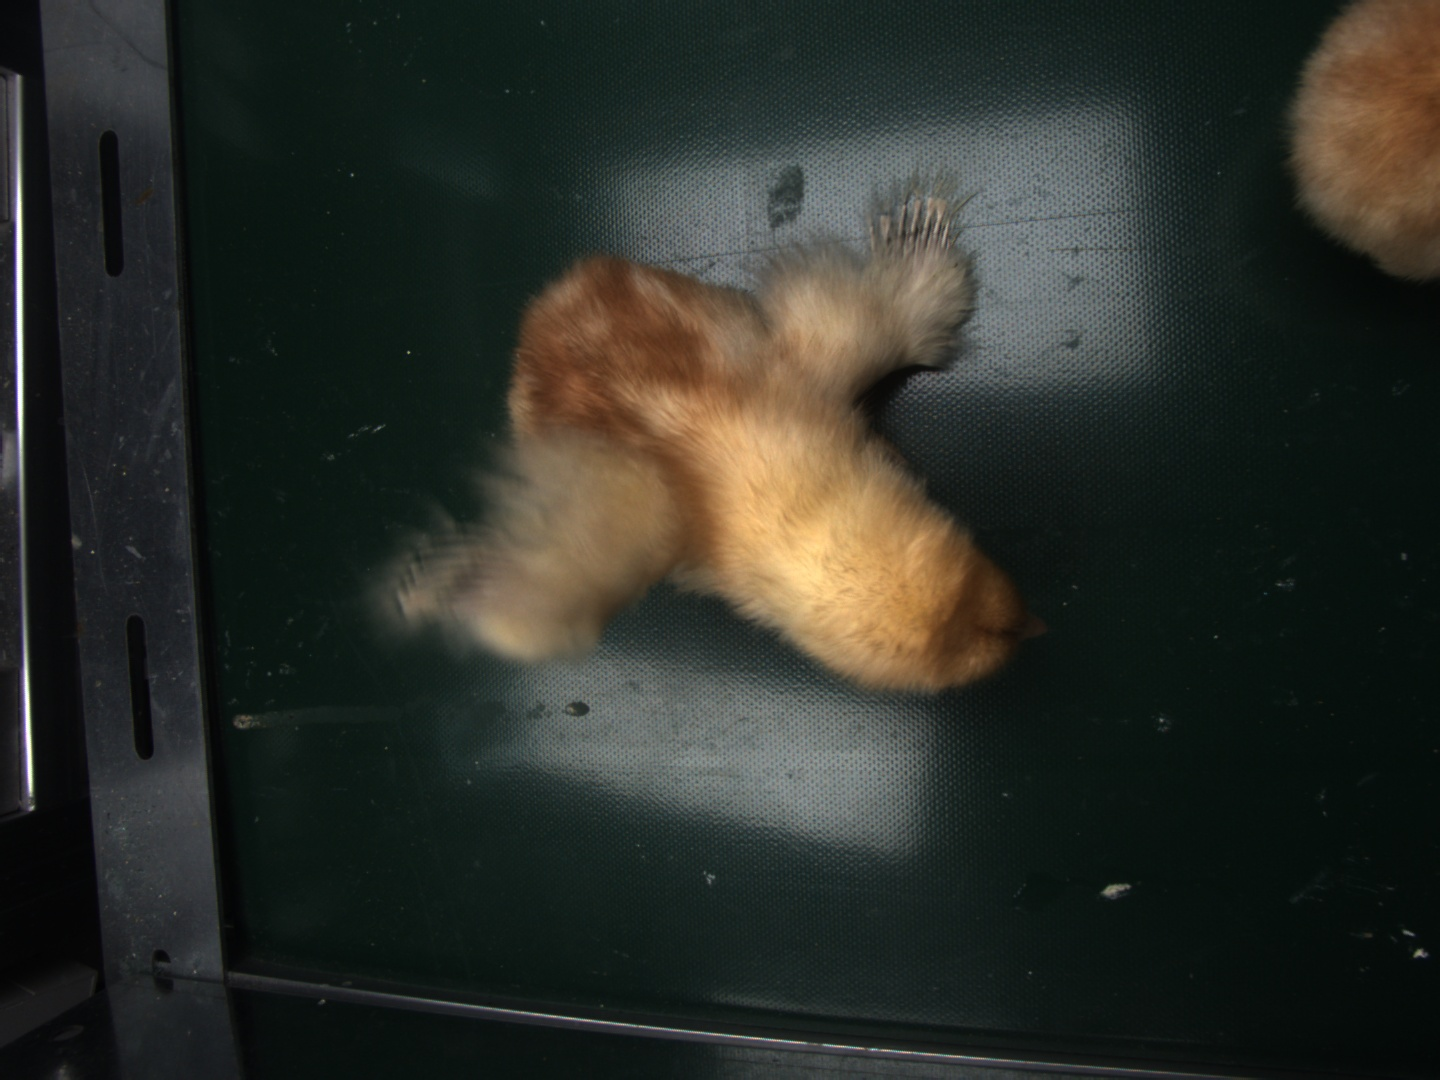female: (875, 191, 960, 258)
